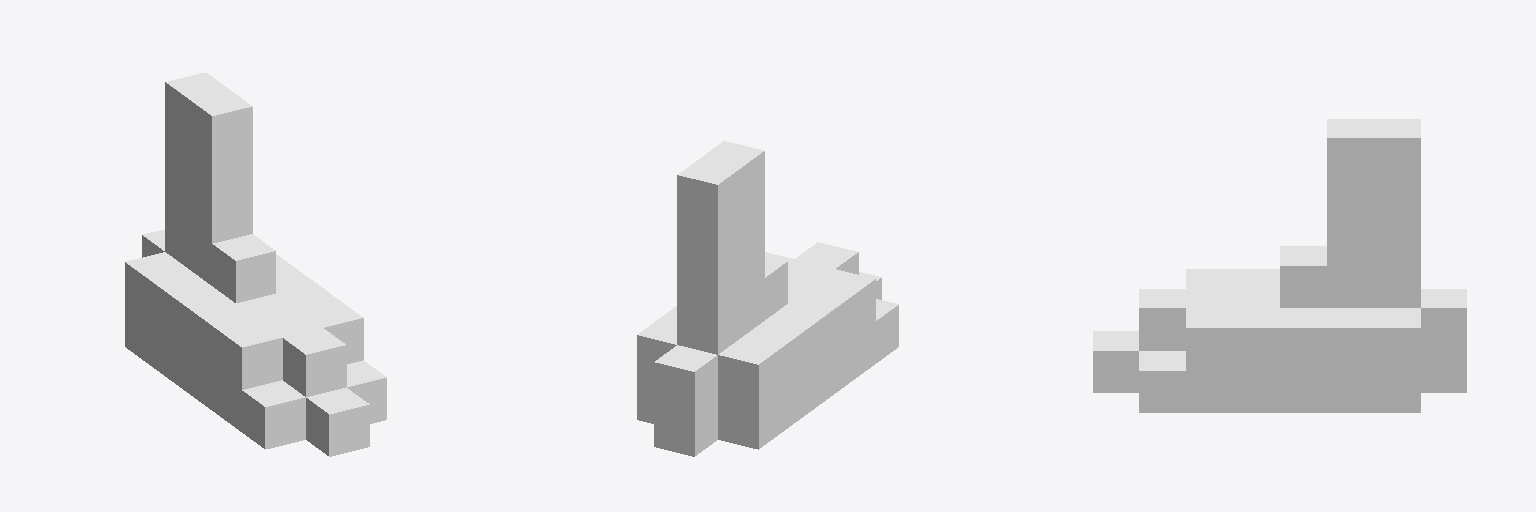
Rendered from nanchara_rightLeg.obj.
The picture shows the model from 3 angles: view 1: azimuth 30°, elevation 25°; view 2: azimuth 150°, elevation 25°; view 3: azimuth 270°, elevation 25°; orthographic projection.
Visible parts, largest first — view 1: object 1; view 2: object 1; view 3: object 1.
Boxes of the visible parts, x1,y1,x2,y2 form: object 1: [125, 72, 386, 456]; object 1: [637, 141, 898, 456]; object 1: [1093, 119, 1466, 412].
Size of the model in its own units: 0.6 by 1.2 by 1.6.